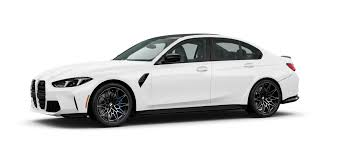car: (26, 30, 301, 127)
